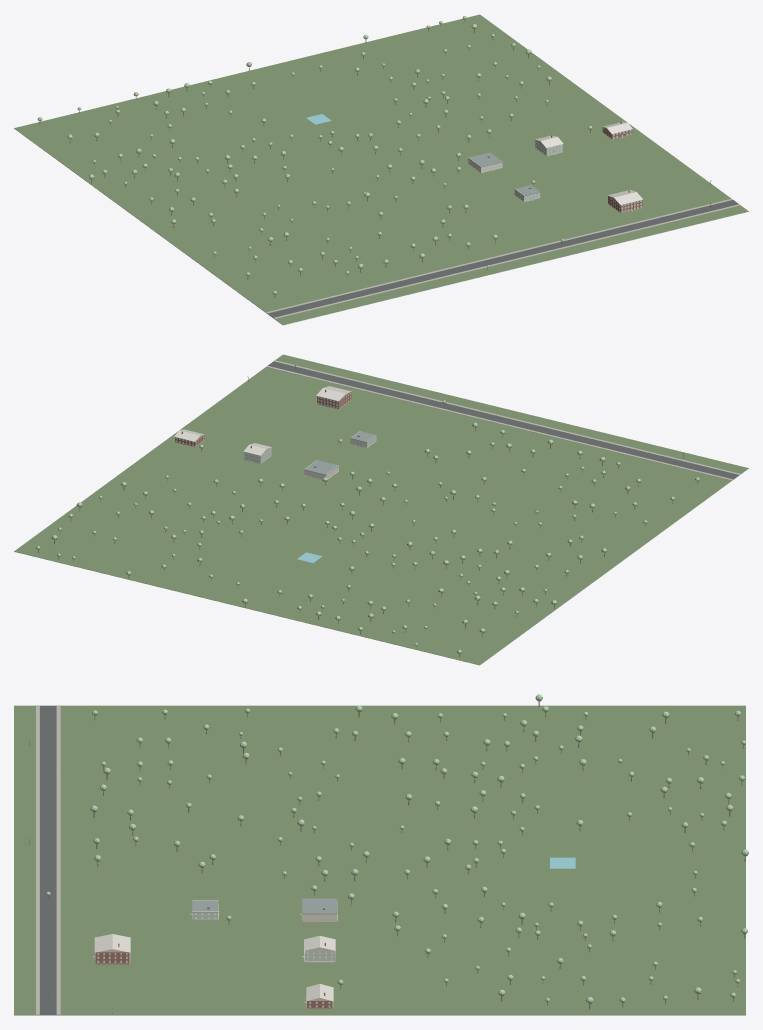
Rendered from chunk_1_5_high.glb.
3 views of the same model, one above another, from view 1: azimuth 30°, elevation 25°; view 2: azimuth 150°, elevation 25°; view 3: azimuth 270°, elevation 25° (orthographic). The views are drawn at different scales.
Visible parts, largest first — view 1: city_forest_floor, city_world_asphalt, city_foliage, city_world_sidewalk, city_foliage_dark, city_grass, city_roof_tile, city_curb, city_bark; view 2: city_forest_floor, city_world_asphalt, city_foliage, city_world_sidewalk, city_foliage_dark, city_grass, city_roof_tile, city_curb, city_bark; view 3: city_forest_floor, city_world_asphalt, city_foliage, city_world_sidewalk, city_foliage_dark, city_roof_tile, city_bark, city_roof_slate, city_grass, city_trim, city_world_brick, city_curb.
Part boxes in pixels (x1=…): city_forest_floor: x1=14, y1=14, x2=748, y2=324; city_world_asphalt: x1=267, y1=200, x2=738, y2=317; city_foliage: x1=38, y1=16, x2=592, y2=294; city_world_sidewalk: x1=266, y1=133, x2=740, y2=318; city_foliage_dark: x1=37, y1=17, x2=589, y2=294; city_grass: x1=14, y1=128, x2=748, y2=325; city_roof_tile: x1=535, y1=121, x2=642, y2=204; city_curb: x1=267, y1=199, x2=738, y2=317; city_bark: x1=39, y1=20, x2=590, y2=297; city_forest_floor: x1=14, y1=354, x2=748, y2=664; city_world_asphalt: x1=268, y1=361, x2=738, y2=479; city_foliage: x1=36, y1=400, x2=699, y2=653; city_world_sidewalk: x1=266, y1=360, x2=740, y2=480; city_foliage_dark: x1=36, y1=401, x2=699, y2=653; city_grass: x1=14, y1=468, x2=748, y2=665; city_roof_tile: x1=174, y1=386, x2=351, y2=455; city_curb: x1=268, y1=361, x2=739, y2=478; city_bark: x1=38, y1=404, x2=697, y2=657; city_forest_floor: x1=14, y1=705, x2=745, y2=1014; city_world_asphalt: x1=40, y1=705, x2=56, y2=1014; city_foliage: x1=46, y1=694, x2=748, y2=1003; city_world_sidewalk: x1=36, y1=705, x2=306, y2=1014; city_foliage_dark: x1=47, y1=697, x2=747, y2=1003; city_roof_tile: x1=94, y1=934, x2=335, y2=1001; city_bark: x1=48, y1=701, x2=745, y2=1009; city_roof_slate: x1=192, y1=899, x2=337, y2=914; city_grass: x1=14, y1=1015, x2=745, y2=1015; city_trim: x1=95, y1=898, x2=337, y2=1008; city_world_brick: x1=95, y1=942, x2=332, y2=1008; city_curb: x1=36, y1=705, x2=60, y2=1014.
Size of the model in its own units: 513 by 13.52 by 514.
